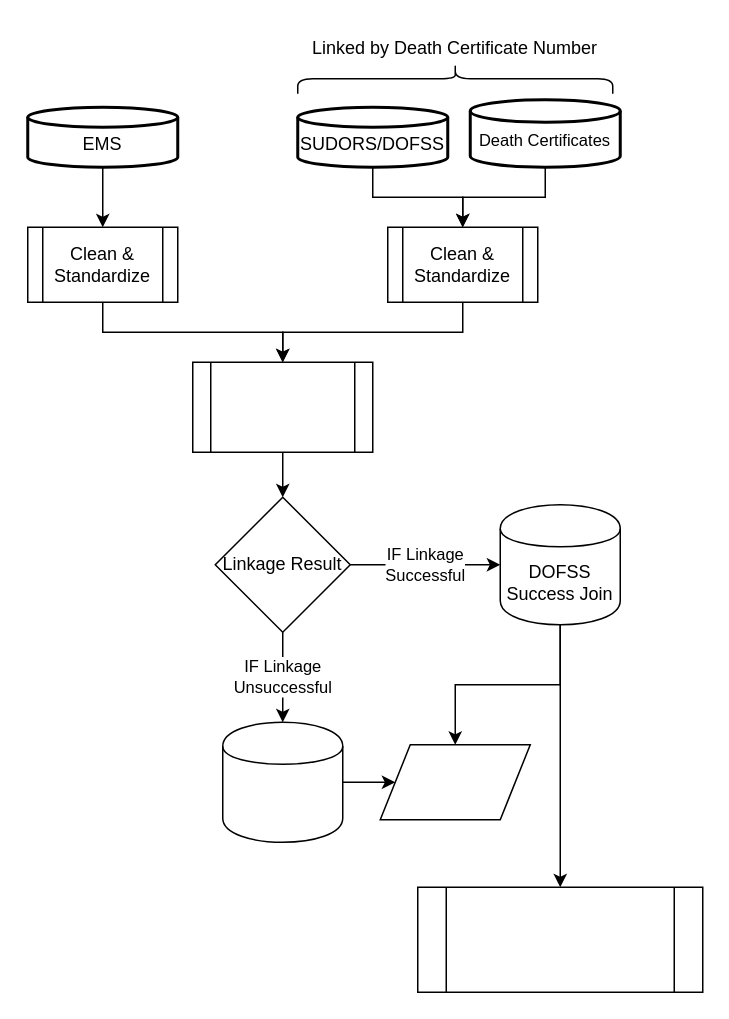
The diagram is 729 pixels wide and 1019 high, and some of its shapes have lost their labels. The shapes that lost their labels are listed below. From the top down, each one's centre as x and y in pixels, then its label:
(282,406): Probabilistic Linkage
(282,781): DOFSS Failed Join
(454,781): Linkage Result Report
(559,939): Format Linked EMS data for REDCap; Write linked records to DOFSS DB
